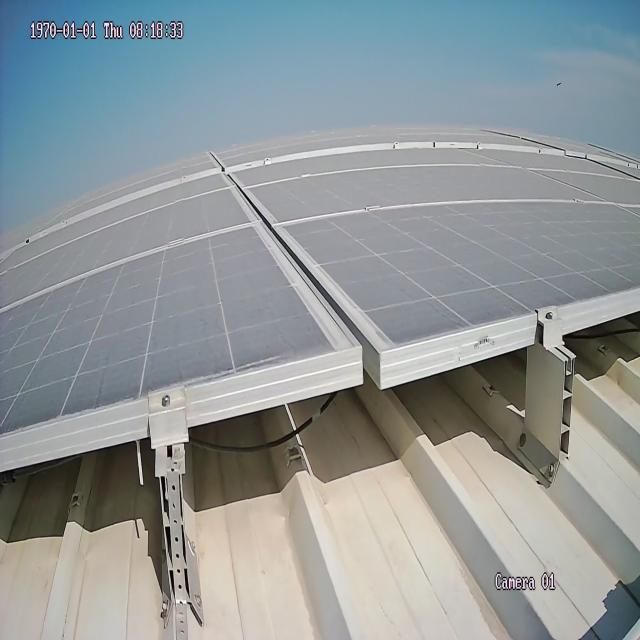interior panel: (1, 190, 566, 318), (216, 166, 392, 341)
outher panel: (0, 290, 640, 640)
